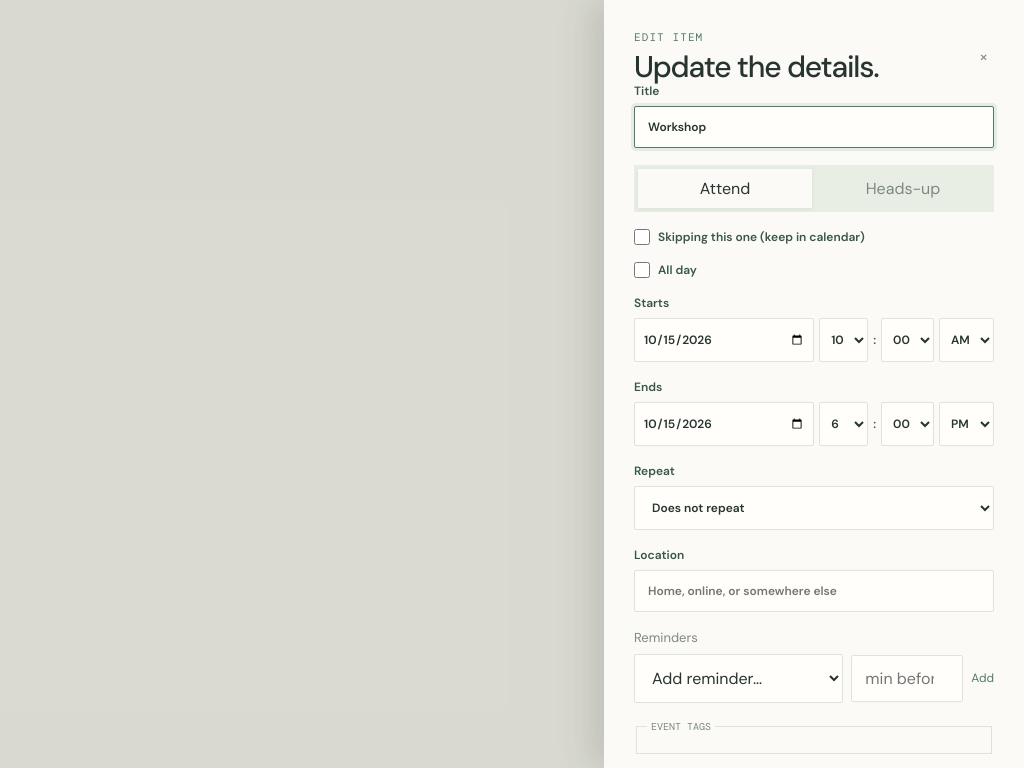
ComposerDrawer approximate fields › prefills approximate edges and hides them for all-day events
Click the checkbox labelled "All day" at (642, 270), box 634,262 -> 650,278
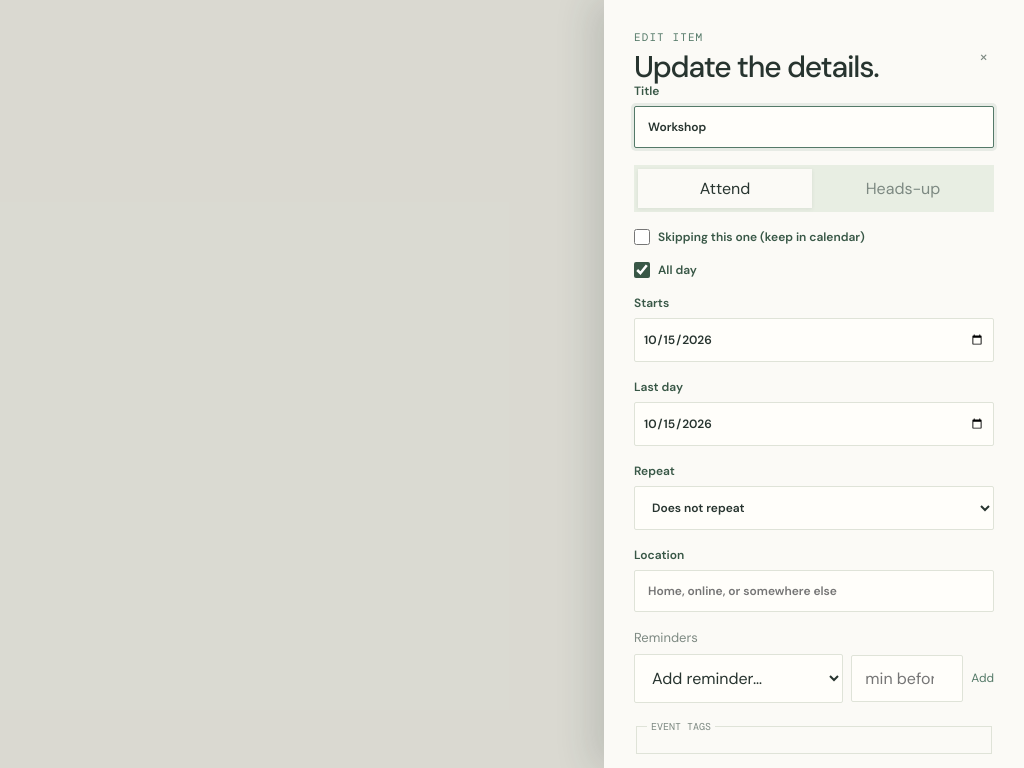
Expected: the field labelled "Approximate end" is not shown
Click the checkbox labelled "All day" at (642, 270), box 634,262 -> 650,278
(page scrolled)
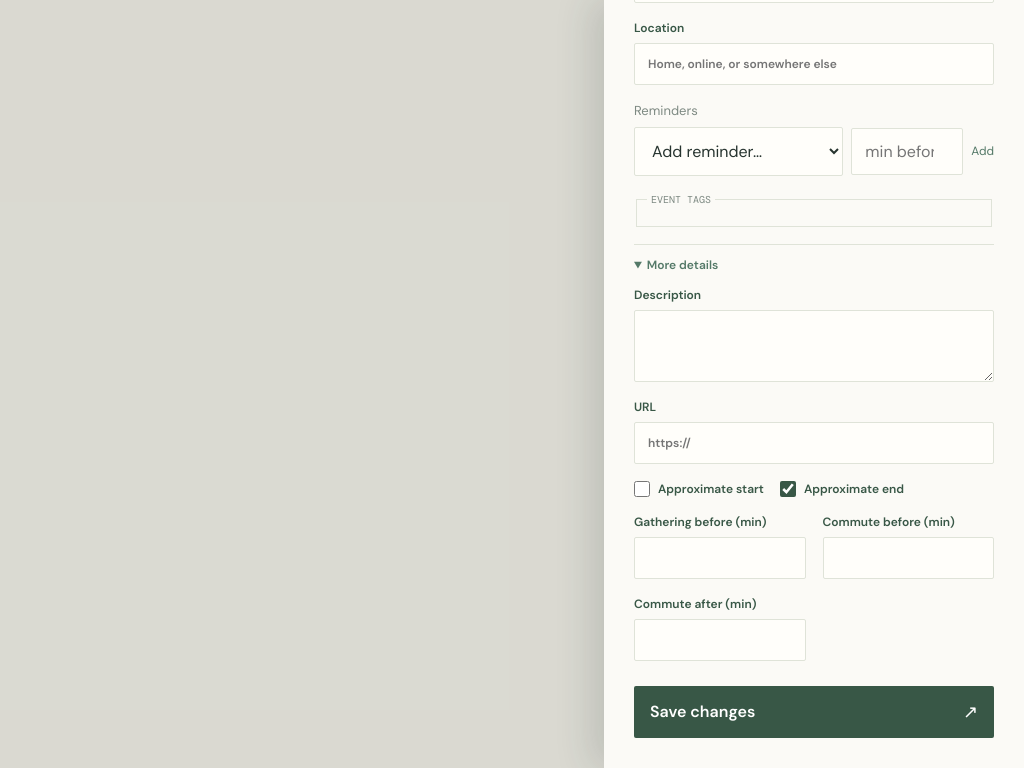
Now the checkbox labelled "Approximate end" is checked, box 780,480 -> 796,496
